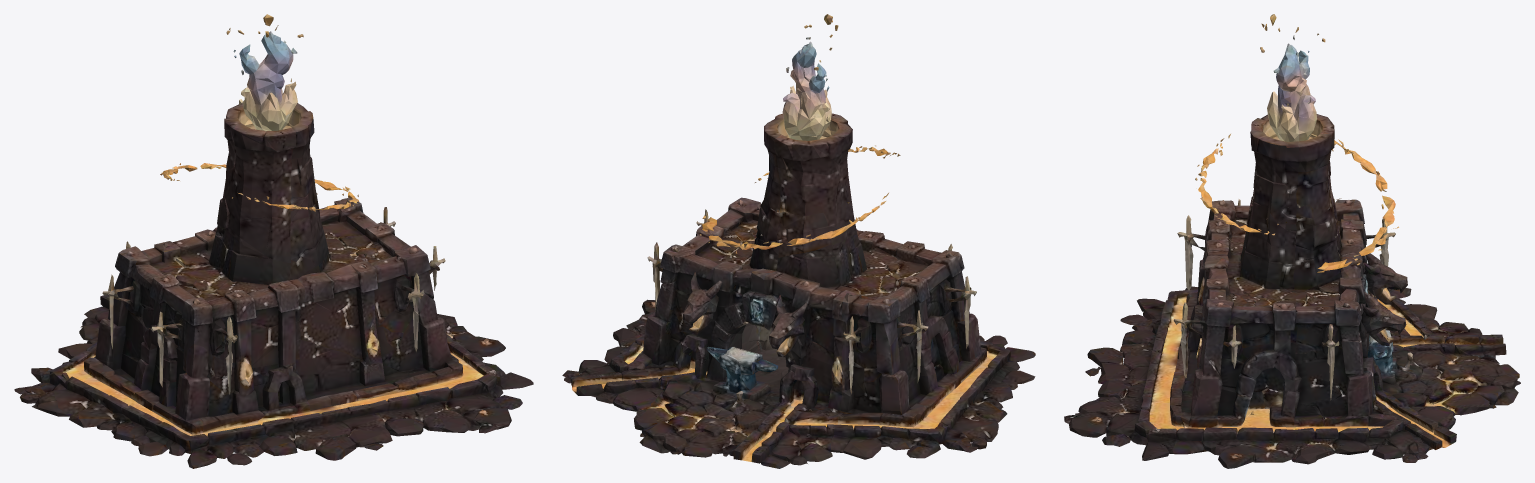
The model's file is forge_t4.glb.
3 renders of one model, left to right at view 1: azimuth 30°, elevation 25°; view 2: azimuth 150°, elevation 25°; view 3: azimuth 270°, elevation 25°, orthographic. The views are drawn at different scales.
Parts seen in each view (by area): view 1: tripo_node_19aa8c73-670b-4733-99a4-7c21a9041fde; view 2: tripo_node_19aa8c73-670b-4733-99a4-7c21a9041fde; view 3: tripo_node_19aa8c73-670b-4733-99a4-7c21a9041fde.
Part boxes in pixels (x1,y1,x2,y2): tripo_node_19aa8c73-670b-4733-99a4-7c21a9041fde: [14, 14, 533, 468]; tripo_node_19aa8c73-670b-4733-99a4-7c21a9041fde: [562, 14, 1035, 468]; tripo_node_19aa8c73-670b-4733-99a4-7c21a9041fde: [1064, 14, 1520, 468].
Bounding box in the file's own units: 0.9947 × 0.8428 × 0.9757.
1 material, 1 textured.
